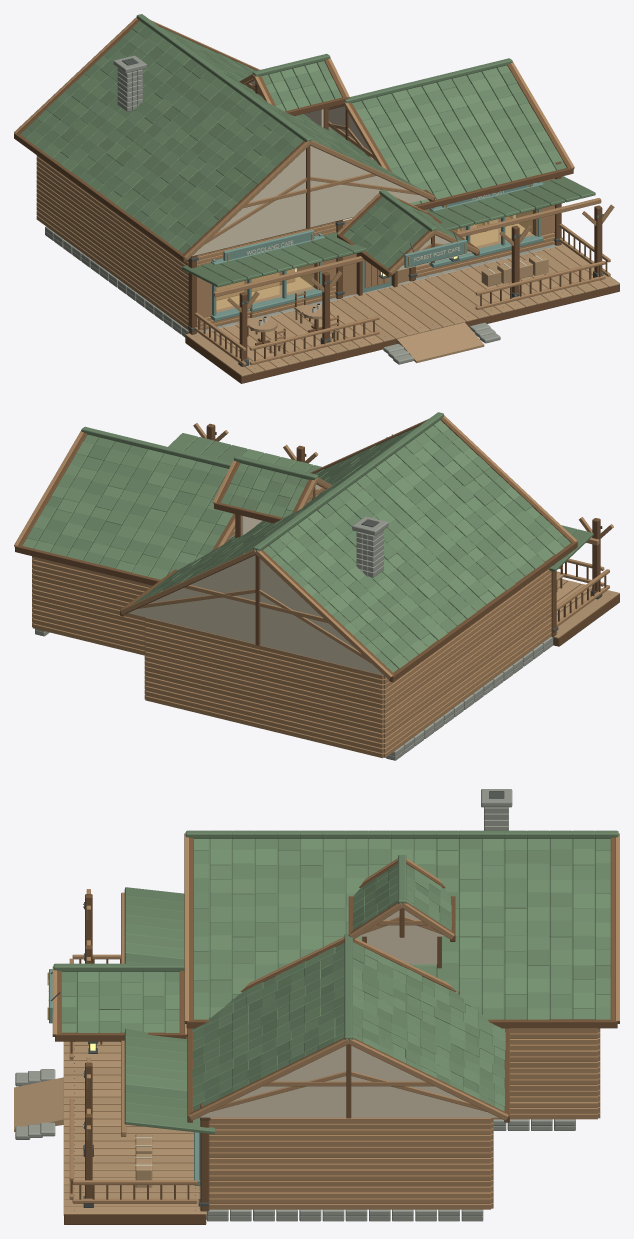
Rendered from forest_post_cafe_v05.glb.
3 renders of one model, top to bottom at view 1: azimuth 30°, elevation 25°; view 2: azimuth 150°, elevation 25°; view 3: azimuth 270°, elevation 25°, orthographic. The views are drawn at different scales.
Parts seen in each view (by area): view 1: MainHallRoof, PostalWingRoof, PorchDeck, WallSiding, EntryRoof, StructuralFrame, StoneFoundation, PorchRails, DormerRoof, WindowFrames, Signage, PorchRamp (+5 smaller); view 2: MainHallRoof, WallSiding, PostalWingRoof, StructuralFrame, DormerRoof, StoneFoundation, EntryRoof, PorchDeck, PorchRails; view 3: MainHallRoof, PostalWingRoof, WallSiding, EntryRoof, PorchDeck, StructuralFrame, StoneFoundation, DormerRoof, PorchRails, PorchRamp, InteriorPost.
Boxes of the visible parts, bbox=[...] form: MainHallRoof: bbox=[14, 14, 434, 262]; PostalWingRoof: bbox=[328, 58, 574, 209]; PorchDeck: bbox=[185, 243, 619, 376]; WallSiding: bbox=[36, 109, 554, 330]; EntryRoof: bbox=[182, 176, 595, 287]; StructuralFrame: bbox=[16, 19, 614, 359]; StoneFoundation: bbox=[45, 55, 619, 383]; PorchRails: bbox=[194, 223, 610, 365]; DormerRoof: bbox=[239, 53, 349, 116]; WindowFrames: bbox=[210, 181, 543, 321]; Signage: bbox=[223, 183, 532, 267]; PorchRamp: bbox=[396, 322, 484, 363]; MainHallRoof: bbox=[120, 412, 577, 682]; WallSiding: bbox=[32, 515, 551, 758]; PostalWingRoof: bbox=[14, 426, 235, 585]; StructuralFrame: bbox=[18, 418, 613, 674]; DormerRoof: bbox=[212, 455, 332, 523]; StoneFoundation: bbox=[35, 516, 619, 760]; EntryRoof: bbox=[168, 433, 593, 571]; PorchDeck: bbox=[553, 579, 619, 638]; PorchRails: bbox=[556, 558, 609, 626]; MainHallRoof: bbox=[184, 830, 619, 1028]; PostalWingRoof: bbox=[187, 934, 509, 1122]; WallSiding: bbox=[209, 936, 600, 1209]; EntryRoof: bbox=[52, 887, 215, 1134]; PorchDeck: bbox=[63, 1041, 206, 1215]; StructuralFrame: bbox=[57, 838, 615, 1211]; StoneFoundation: bbox=[15, 789, 575, 1224]; DormerRoof: bbox=[348, 855, 455, 941]; PorchRails: bbox=[69, 954, 197, 1203]; PorchRamp: bbox=[14, 1077, 63, 1131]; InteriorPost: bbox=[135, 1134, 152, 1187].
Size of the model in its own units: 16.15 by 7.32 by 17.02.
